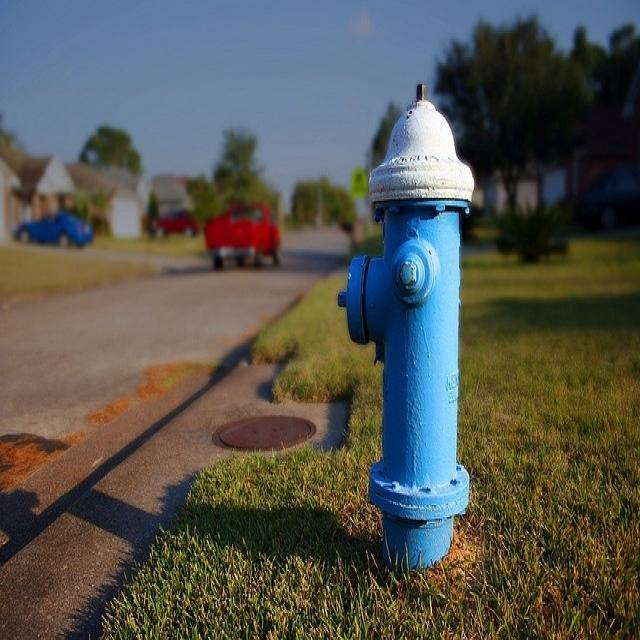fire_hydrant: (305, 61, 496, 612)
